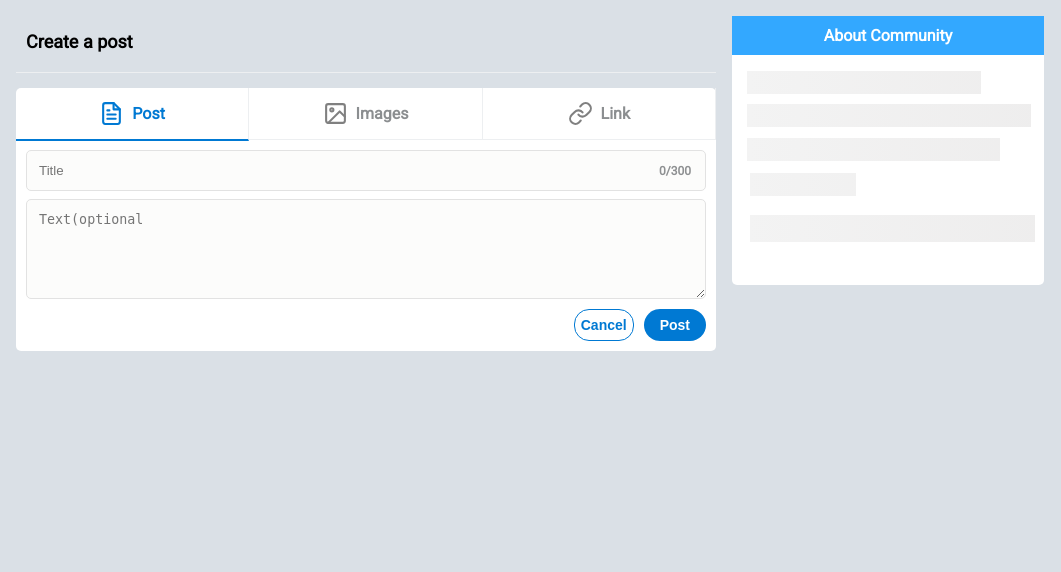
CreatePost › Tabs work › Images
Click the element with test id "images-tab" at (366, 113), box [249,88,483,139]
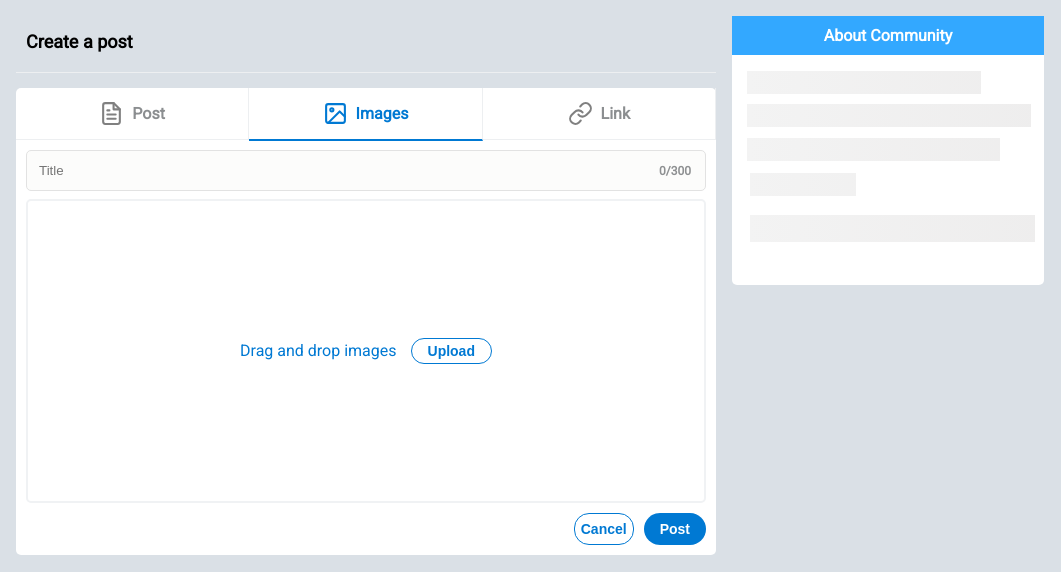
expect the field with placeholder "Title" is shown: met, box [26,150,706,191]
expect the text "Drag and drop images Upload" is shown: met, box [240,338,492,364]
expect the button "Upload" is shown: met, box [410,338,492,364]
